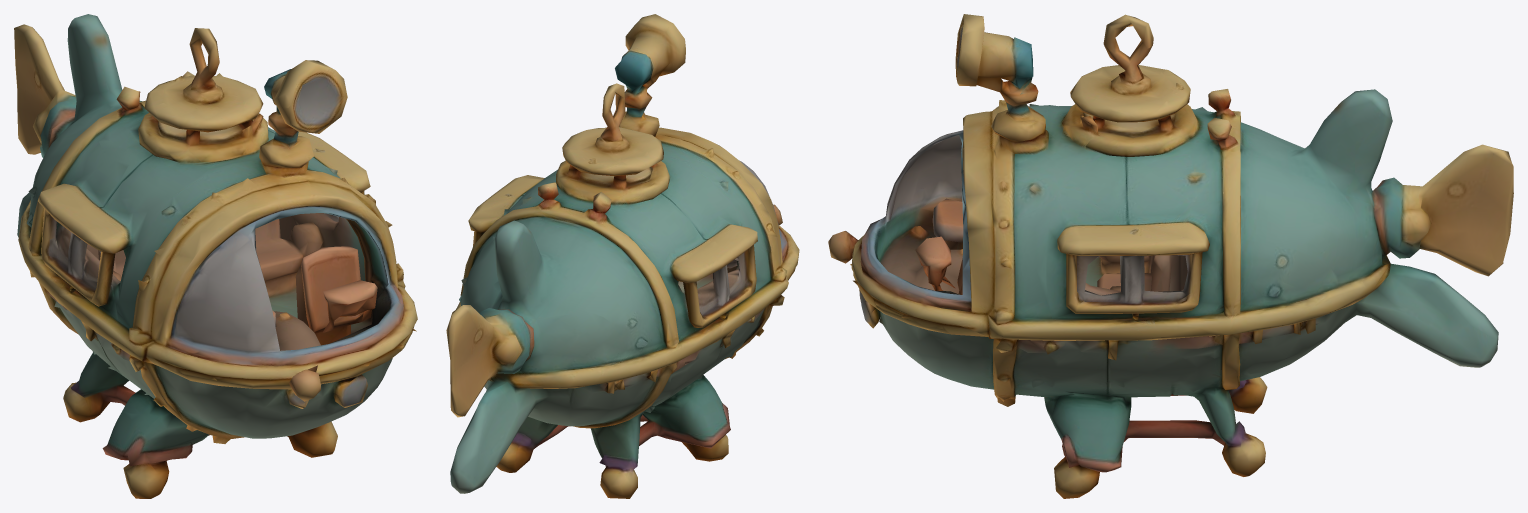
File: submarine.glb
3 renders of one model, left to right at view 1: azimuth 30°, elevation 25°; view 2: azimuth 150°, elevation 25°; view 3: azimuth 270°, elevation 25°, orthographic. The views are drawn at different scales.
Parts seen in each view (by area): view 1: tripo_node_adb07ad8-6f94-402d-8eb8-7161aac151f2; view 2: tripo_node_adb07ad8-6f94-402d-8eb8-7161aac151f2; view 3: tripo_node_adb07ad8-6f94-402d-8eb8-7161aac151f2.
Boxes of the visible parts, x1=… form: tripo_node_adb07ad8-6f94-402d-8eb8-7161aac151f2: x1=14, y1=14, x2=417, y2=498; tripo_node_adb07ad8-6f94-402d-8eb8-7161aac151f2: x1=446, y1=14, x2=799, y2=498; tripo_node_adb07ad8-6f94-402d-8eb8-7161aac151f2: x1=828, y1=14, x2=1513, y2=498.
Bounding box in the file's own units: 1.93 × 2.9 × 4.
Materials: 1 (1 with a texture image).
